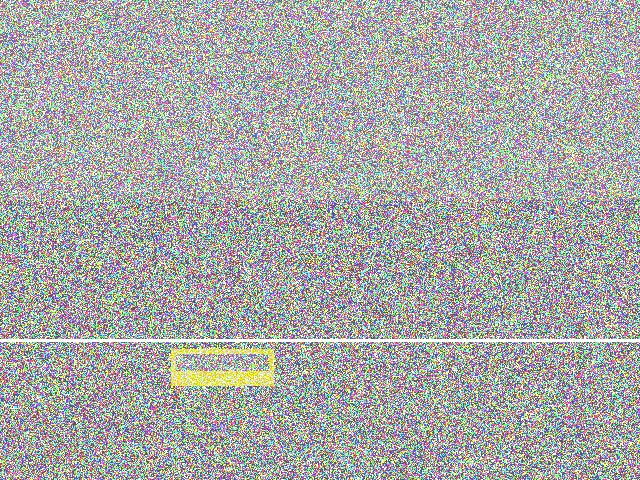motorcycle: (39, 291, 112, 383)
